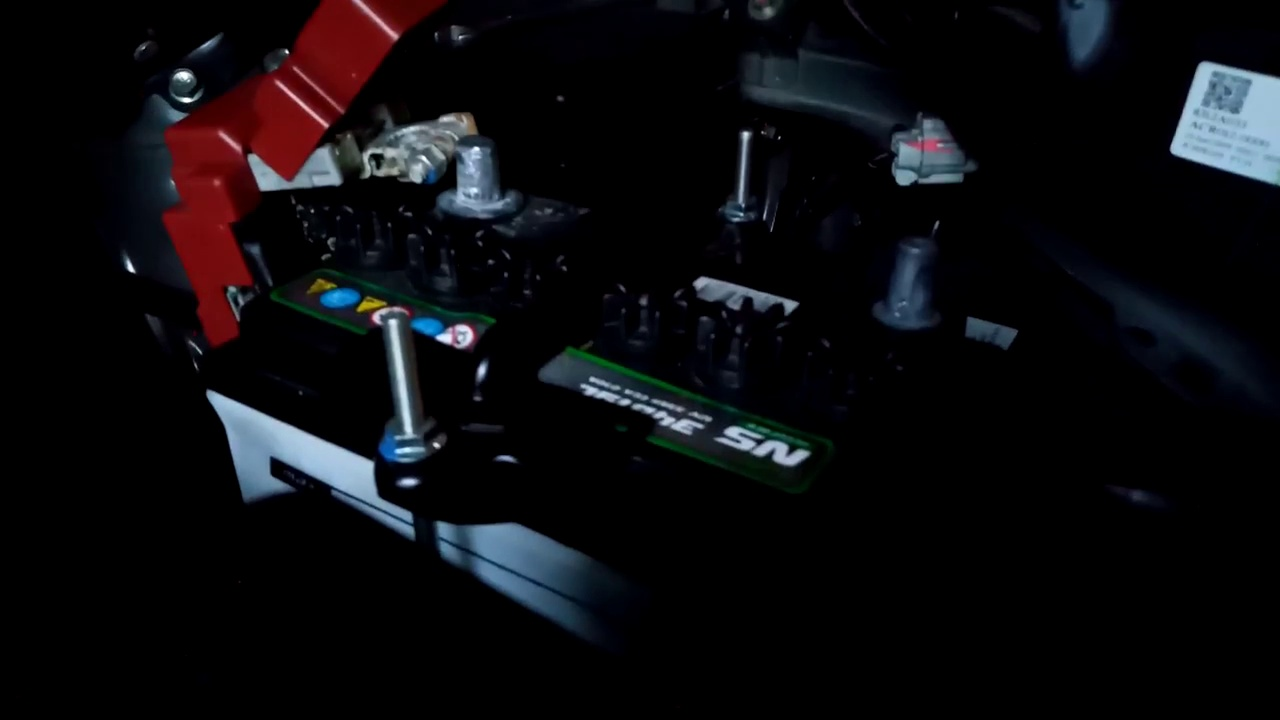battery: (250, 140, 976, 525)
neg_disconnected: (832, 208, 1077, 383)
pos_disconnected: (135, 57, 535, 319)
